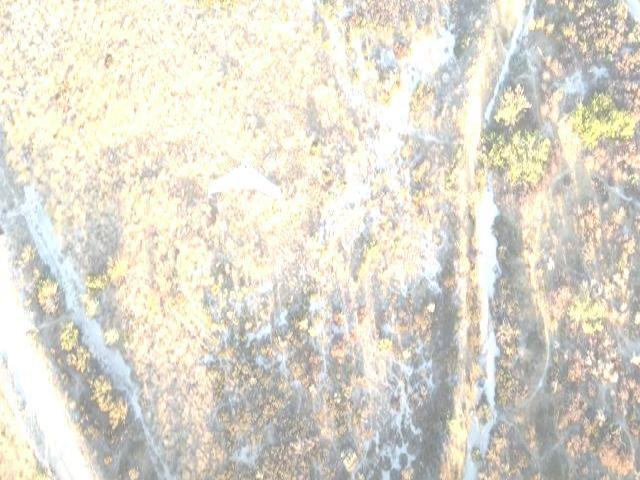iha: (207, 154, 283, 202)
